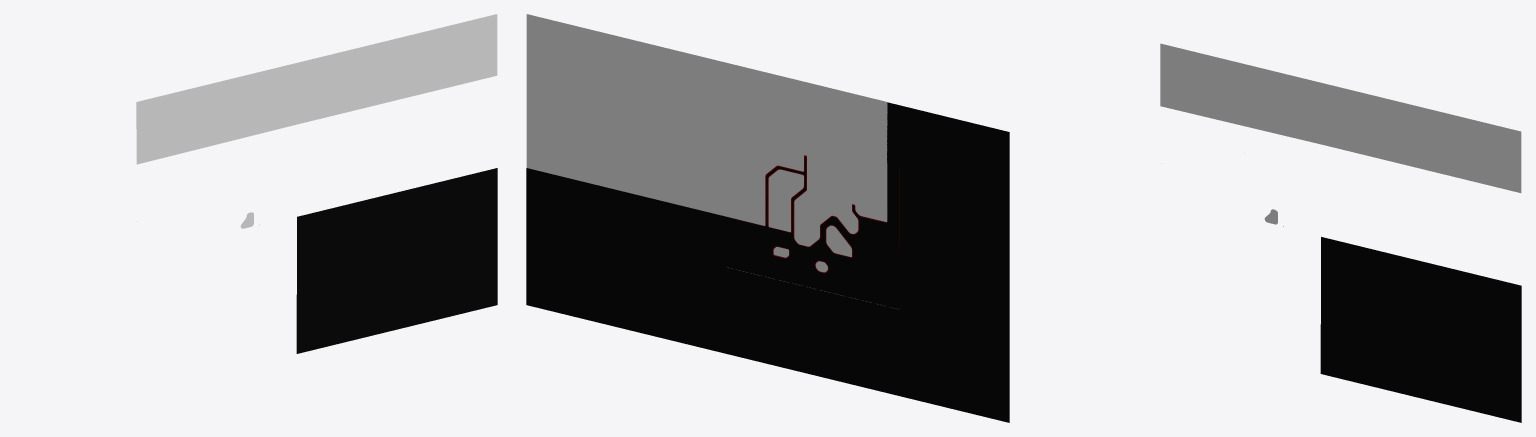
File: Busan.glb
3 views of the same model, side by side, from view 1: azimuth 30°, elevation 25°; view 2: azimuth 150°, elevation 25°; view 3: azimuth 330°, elevation 25° (orthographic).
Parts seen in each view (by area): view 1: Water_Extended, Land_Extended; view 2: Water_Extended, Land_Extended, Map_Busan_Water, Busan_Land, Grass_4 (1), Busan_Grass; view 3: Water_Extended, Land_Extended.
Part boxes in pixels (<box>): Water_Extended: <box>296,168,497,353</box>; Land_Extended: <box>136,14,497,164</box>; Water_Extended: <box>526,102,1009,422</box>; Land_Extended: <box>526,14,887,215</box>; Map_Busan_Water: <box>727,155,899,309</box>; Busan_Land: <box>724,129,887,272</box>; Grass_4 (1): <box>713,76,793,155</box>; Busan_Grass: <box>765,158,887,245</box>; Water_Extended: <box>1320,237,1521,422</box>; Land_Extended: <box>1160,43,1521,192</box>.
Bounding box in the file's own units: 301 × 174 × 0.0225.
Materials: 5 (2 with a texture image).
